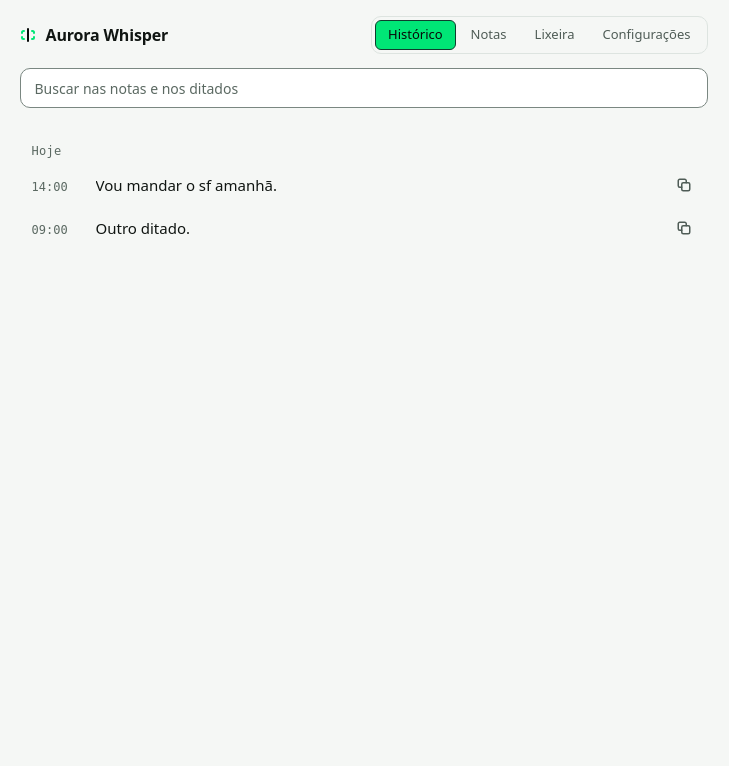
Test: o aviso da sugestão › os termos vão na mono, e a pílula diz o efeito e o atalho a quem pergunta
The image size is (729, 766).
Click the button "14:00 Vou mandar o sf amanhã.".
click(50, 187)  # box [20, 164, 708, 206]
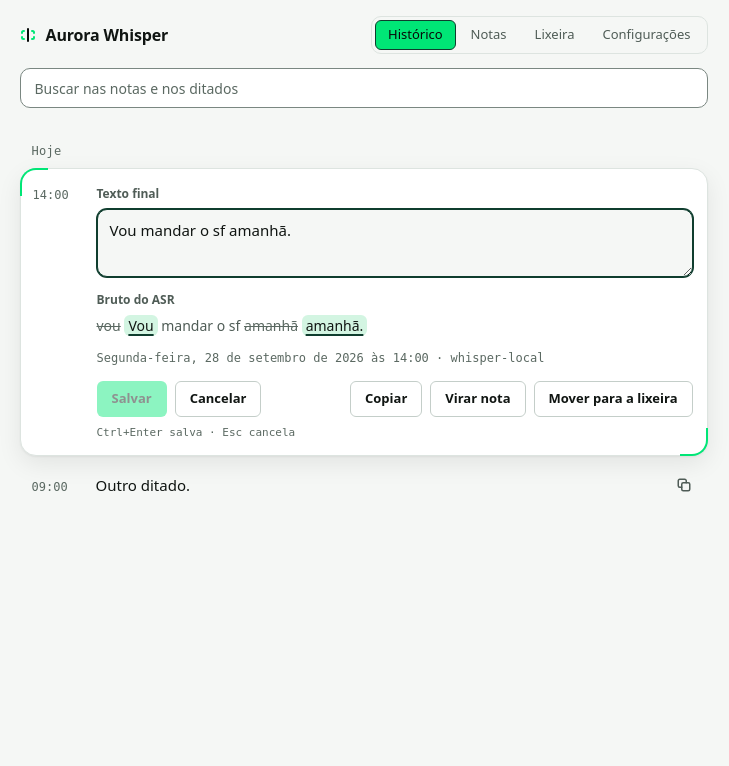
Replace the text in the text box labelled "Texto final" with "Vou mandar o ECF amanhã." at (394, 243), box [96, 209, 692, 276]
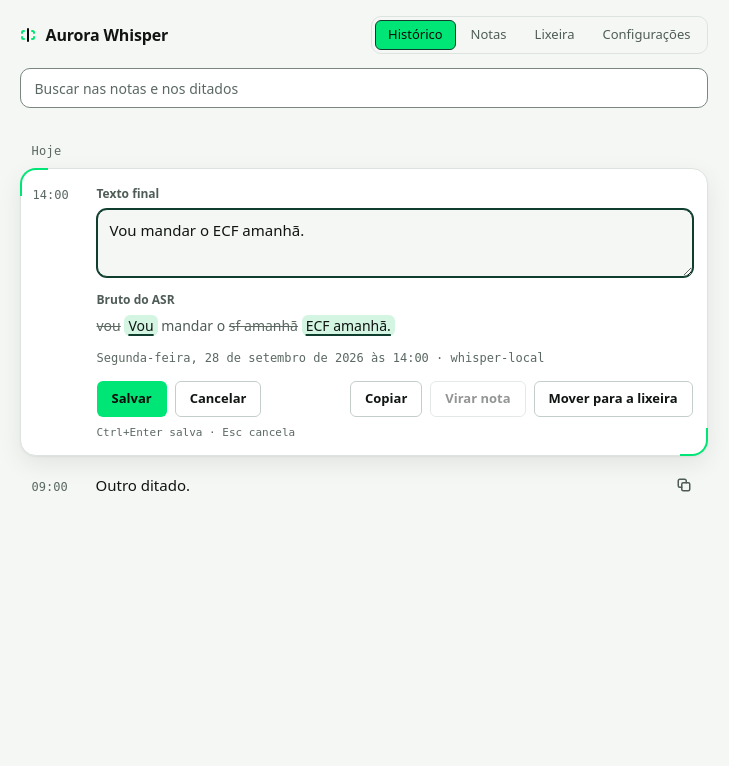
Click the button "Salvar".
click(132, 399)  # box [96, 381, 167, 417]
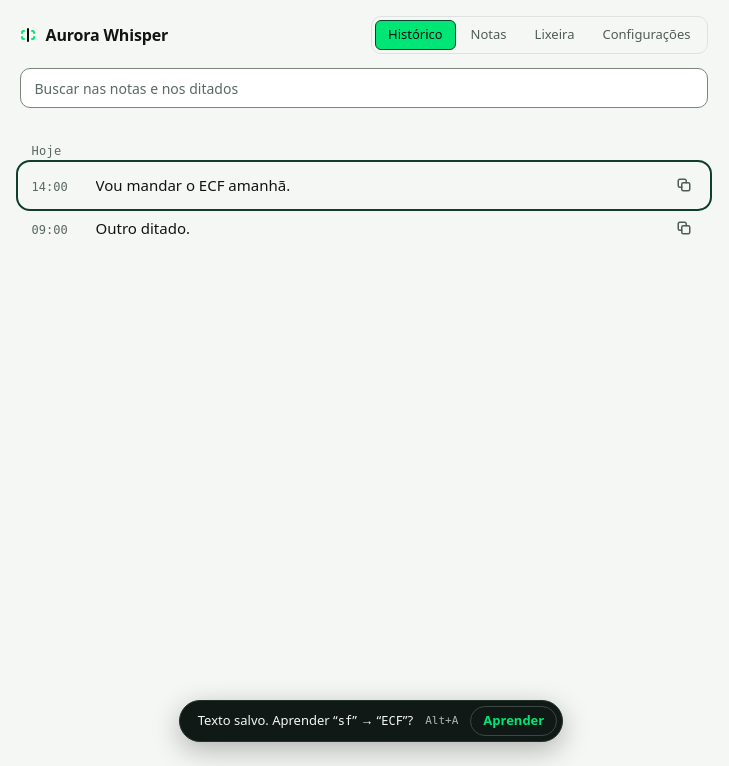
expect the text "Alt+A" is shown: met, box [425, 713, 458, 729]
